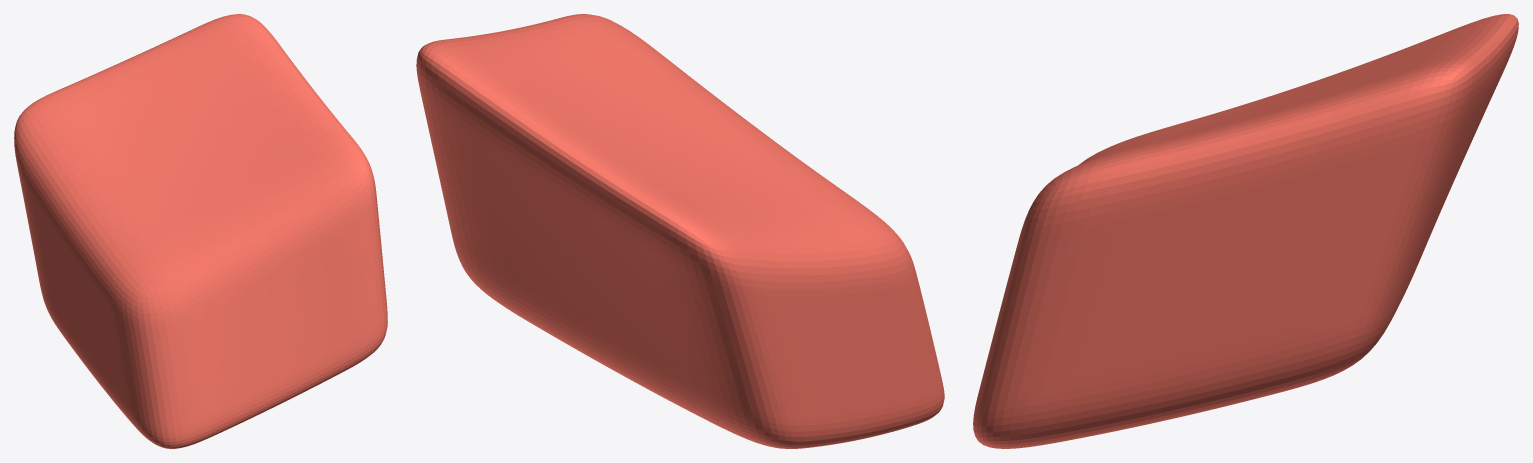
3 views of the same model, side by side, from view 1: azimuth 30°, elevation 25°; view 2: azimuth 150°, elevation 25°; view 3: azimuth 270°, elevation 25° (orthographic). The views are drawn at different scales.
Visible parts, largest first — view 1: waves_1.052; view 2: waves_1.052; view 3: waves_1.052.
Part boxes in pixels (x1,y1,x2,y2): waves_1.052: [14, 14, 387, 448]; waves_1.052: [416, 14, 944, 448]; waves_1.052: [973, 14, 1518, 448].
Bounding box in the file's own units: 30.45 × 34.98 × 36.65.
